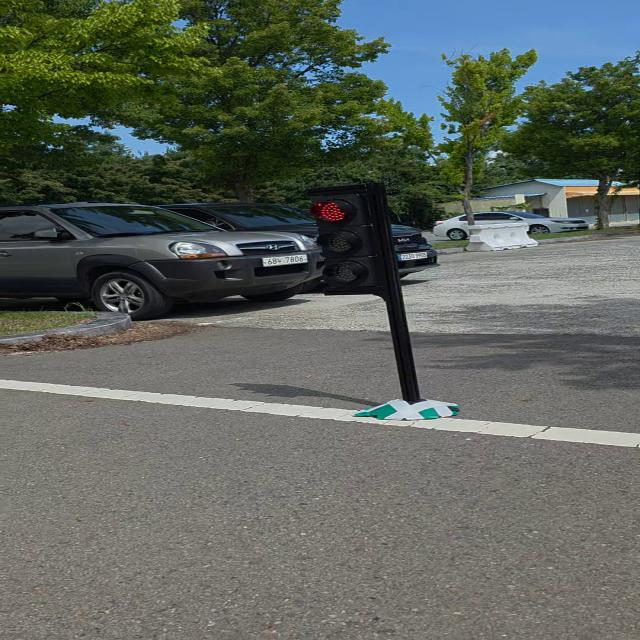red: (308, 189, 399, 293)
